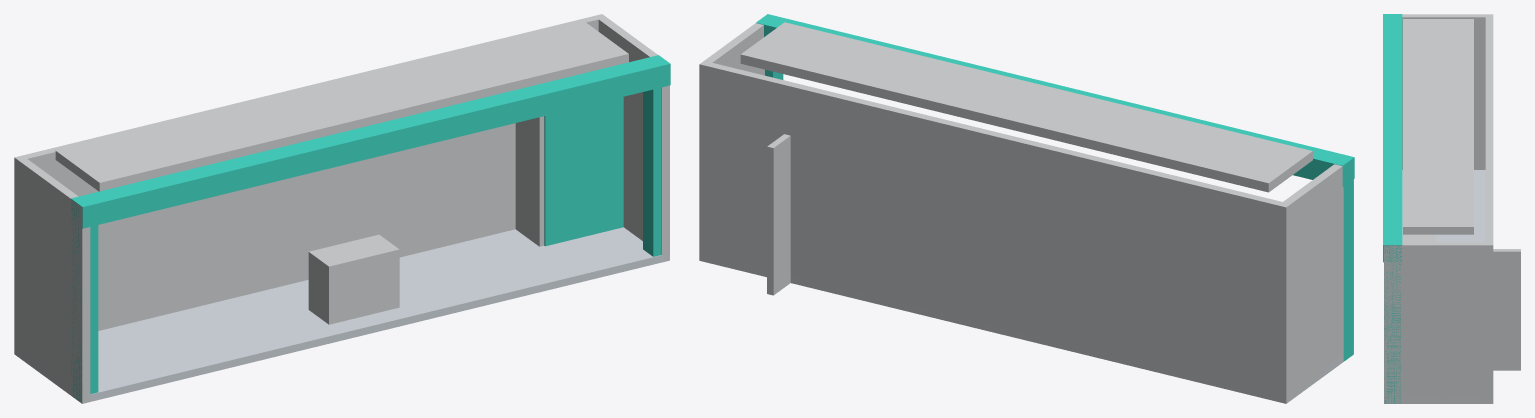
The picture shows the model from 3 angles, left to right: view 1: azimuth 30°, elevation 25°; view 2: azimuth 150°, elevation 25°; view 3: azimuth 270°, elevation 25°; orthographic projection. The views are drawn at different scales.
Parts seen in each view (by area): view 1: Exhibition Booth Concept; view 2: Exhibition Booth Concept; view 3: Exhibition Booth Concept.
Part boxes in pixels (x1=…): Exhibition Booth Concept: x1=14, y1=14, x2=670, y2=403; Exhibition Booth Concept: x1=699, y1=14, x2=1354, y2=403; Exhibition Booth Concept: x1=1383, y1=14, x2=1520, y2=403.
Bounding box in the file's own units: 10 × 3.34 × 2.52.
